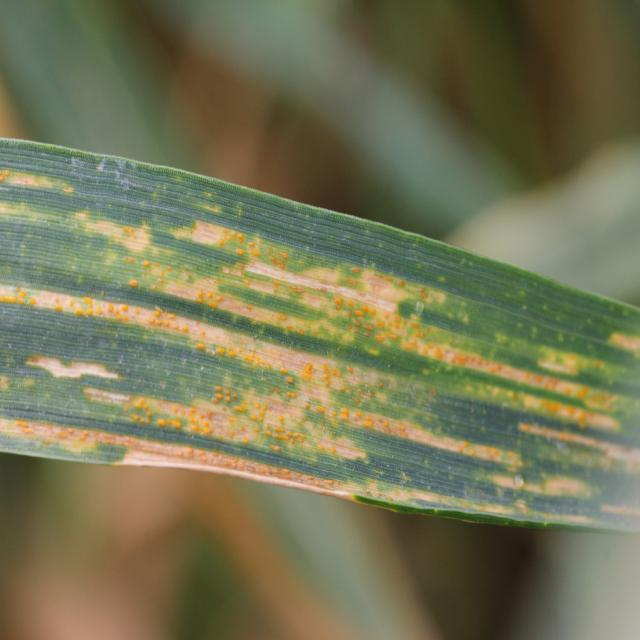wheat-yellowrust: (0, 139, 640, 538)
